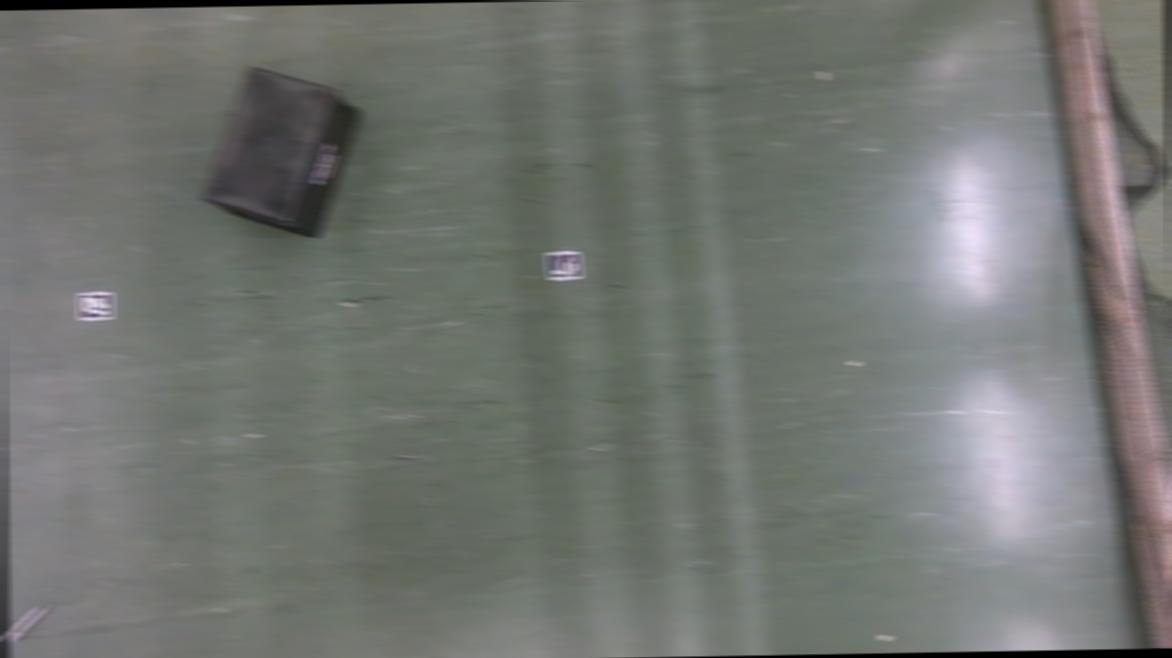probes: (3, 603, 49, 641)
rako: (200, 66, 359, 237)
